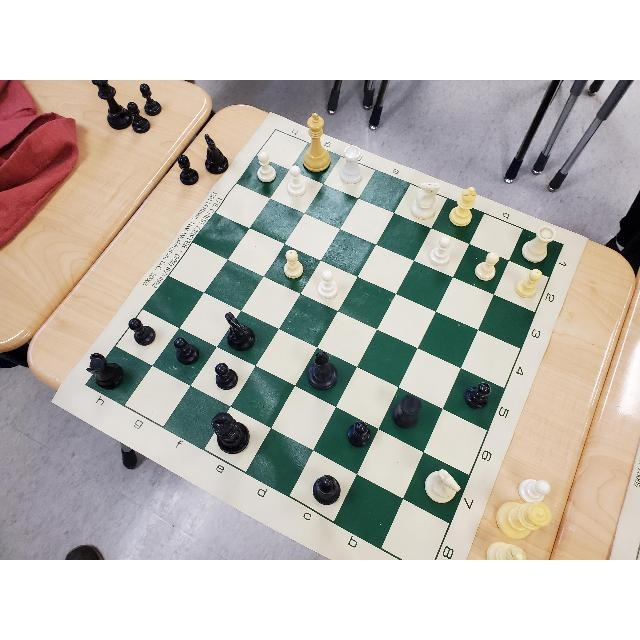black-bishop: (308, 349, 340, 391), (311, 472, 344, 505)
black-king: (210, 411, 253, 455)
black-pawn: (125, 315, 157, 347), (172, 335, 202, 366), (344, 418, 373, 448), (214, 361, 239, 393), (464, 381, 492, 409)
black-rook: (86, 351, 126, 391), (223, 311, 256, 353), (390, 392, 424, 431)
white-bishop: (447, 185, 479, 228)
white-king: (300, 111, 332, 175)
white-knight: (424, 467, 462, 505), (409, 183, 441, 221)
white-pawn: (512, 268, 544, 300), (426, 234, 454, 268), (315, 267, 340, 303), (474, 249, 500, 283), (254, 151, 278, 185), (284, 165, 308, 199), (282, 247, 304, 281)
white-rook: (519, 224, 555, 265), (337, 145, 364, 187)
